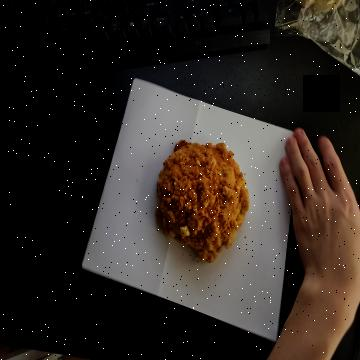soboru_bread: (155, 139, 251, 259)
